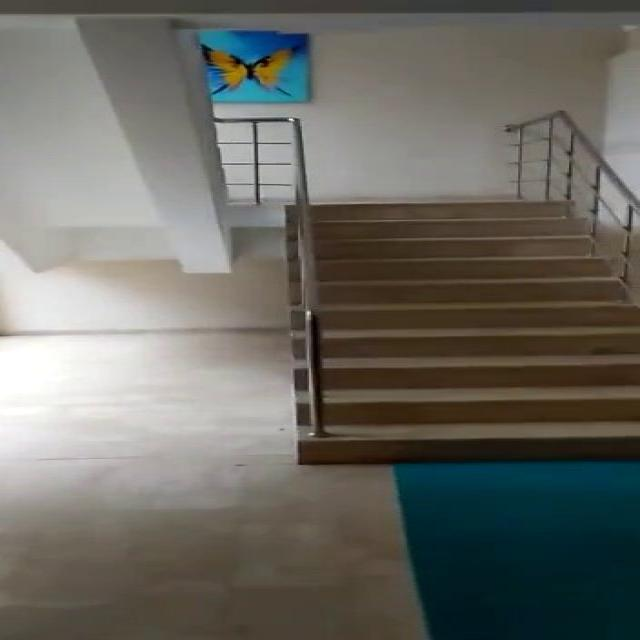stairs: (286, 198, 638, 463)
